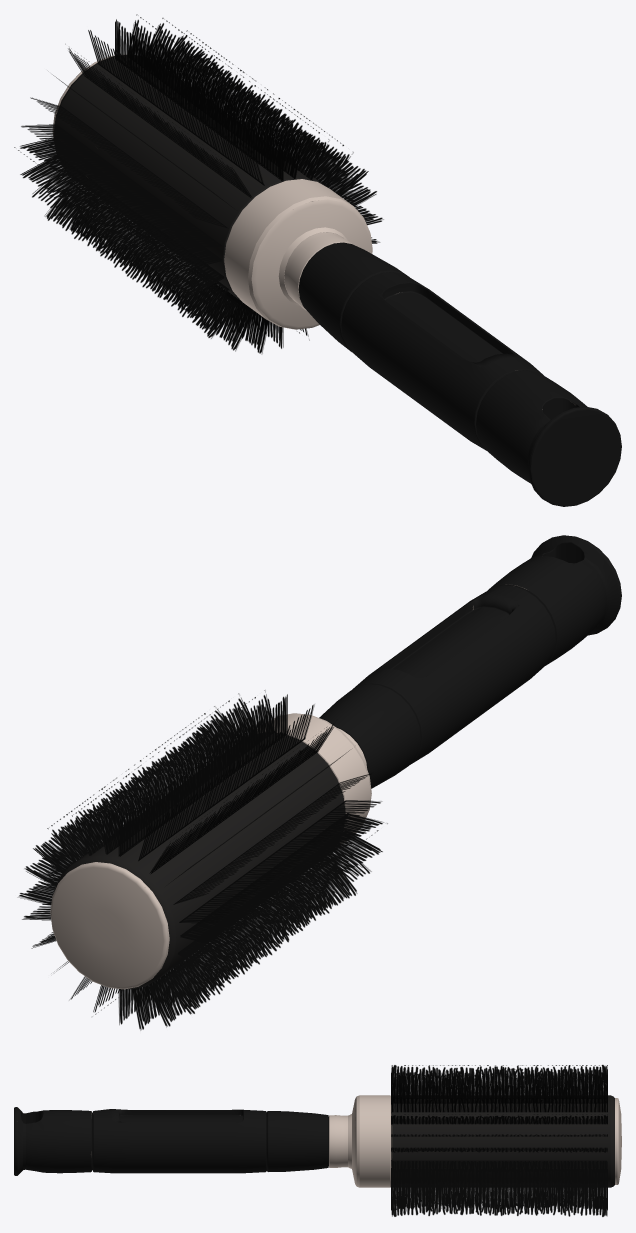
The model's file is brush.glb.
The picture shows the model from 3 angles, top to bottom: view 1: azimuth 30°, elevation 25°; view 2: azimuth 150°, elevation 25°; view 3: azimuth 270°, elevation 25°; orthographic projection. The views are drawn at different scales.
Visible parts, largest first — view 1: smRoundBrush_mRoundBrush_0, Teeth04; view 2: smRoundBrush_mRoundBrush_0, Teeth04; view 3: smRoundBrush_mRoundBrush_0, Teeth04.
Boxes of the visible parts, x1,y1,x2,y2 form: smRoundBrush_mRoundBrush_0: (52,54,621,506); Teeth04: (14,14,383,354); smRoundBrush_mRoundBrush_0: (50,535,621,989); Teeth04: (17,690,387,1030); smRoundBrush_mRoundBrush_0: (14,1095,621,1187); Teeth04: (391,1064,607,1216).
Size of the model in its own units: 0.0753 by 0.0746 by 0.2967.
Materials: 2 (2 with a texture image).
